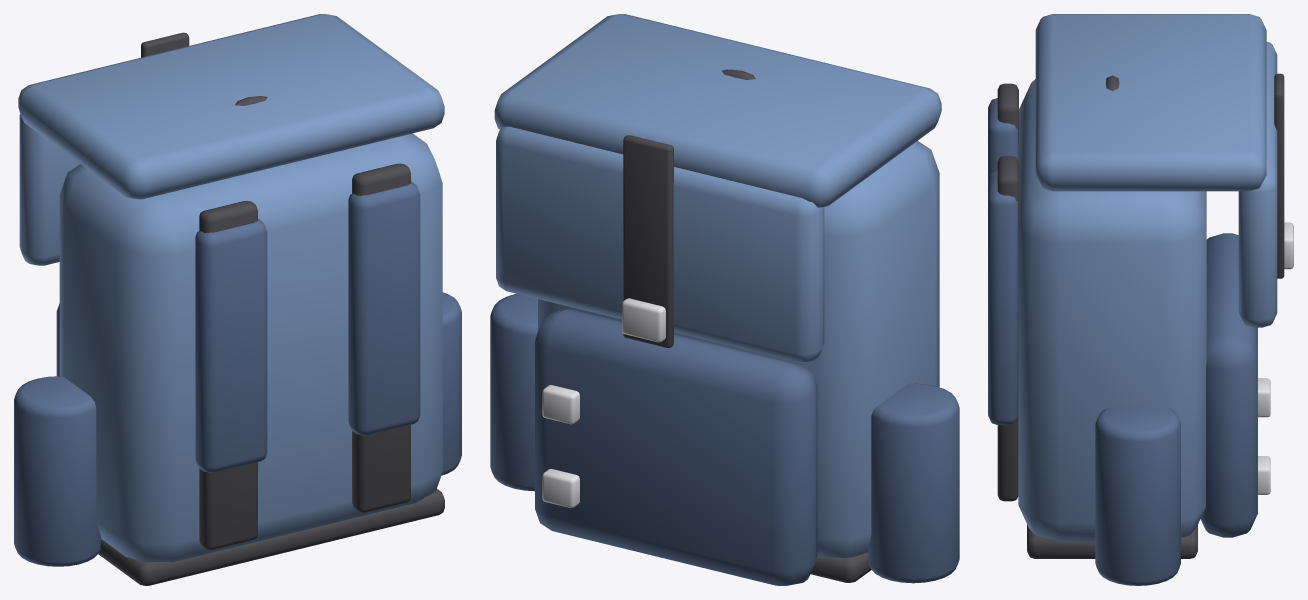
File: rucksack.glb
The picture shows the model from 3 angles, left to right: view 1: azimuth 30°, elevation 25°; view 2: azimuth 150°, elevation 25°; view 3: azimuth 270°, elevation 25°; orthographic projection. The views are drawn at different scales.
Parts seen in each view (by area): view 1: Rucksack, Deckelmesh; view 2: Rucksack, Deckelmesh; view 3: Rucksack, Deckelmesh.
Part boxes in pixels (x1,y1,x2,y2): Rucksack: [14, 96, 461, 585]; Deckelmesh: [18, 14, 444, 265]; Rucksack: [490, 69, 959, 585]; Deckelmesh: [494, 14, 941, 362]; Rucksack: [988, 75, 1270, 585]; Deckelmesh: [1035, 14, 1293, 327].
Size of the model in its own units: 0.57 by 0.53 by 0.3575.
